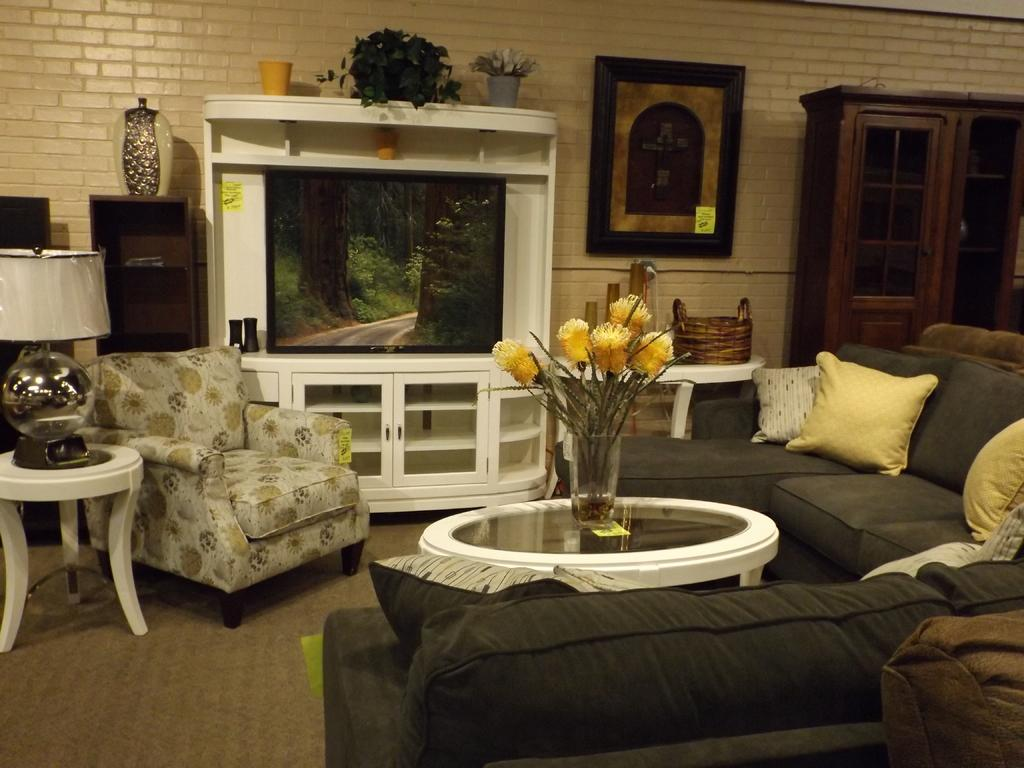Chair: (80, 344, 372, 630)
